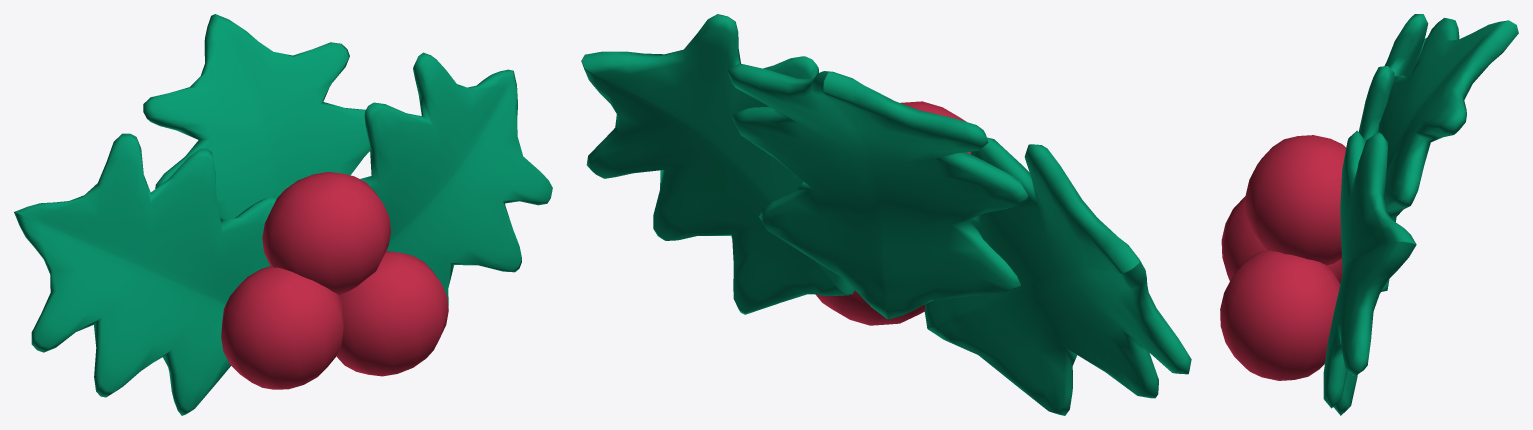
The model's file is Holly.fbx.
3 renders of one model, left to right at view 1: azimuth 30°, elevation 25°; view 2: azimuth 150°, elevation 25°; view 3: azimuth 270°, elevation 25°, orthographic. The views are drawn at different scales.
Visible parts, largest first — view 1: holly_leaf3, holly_leaf1, holly_leaf2, holly3, holly1, holly2; view 2: holly_leaf2, holly_leaf3, holly_leaf1, holly2; view 3: holly_leaf1, holly2, holly_leaf2, holly1, holly_leaf3, holly3.
Part boxes in pixels (x1,y1,x2,y2): holly_leaf3: (14, 133, 276, 415); holly_leaf1: (360, 52, 552, 306); holly_leaf2: (143, 14, 369, 221); holly3: (221, 266, 343, 389); holly1: (262, 172, 390, 294); holly2: (336, 251, 448, 376); holly_leaf2: (727, 63, 1028, 319); holly_leaf3: (924, 137, 1191, 415); holly_leaf1: (581, 14, 854, 314); holly2: (816, 290, 924, 325); holly_leaf1: (1323, 130, 1416, 415); holly2: (1220, 250, 1340, 380); holly_leaf2: (1377, 17, 1518, 293); holly1: (1245, 135, 1345, 265); holly_leaf3: (1340, 14, 1428, 284); holly3: (1221, 196, 1342, 283).
Bounding box in the file's own units: 9.87 × 5.84 × 4.63.
